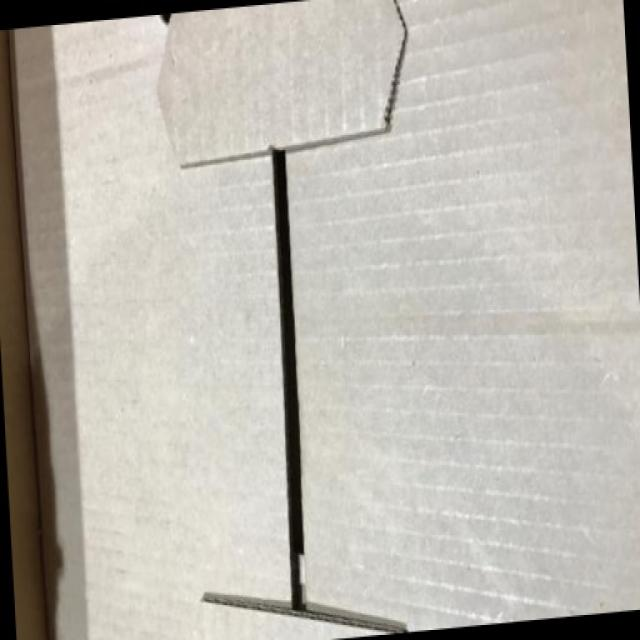carton: (6, 8, 621, 640)
